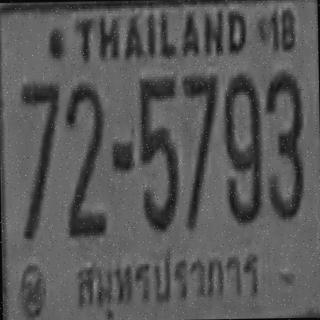N02: (63, 81, 105, 234)
N03: (264, 69, 303, 217)
N05: (136, 74, 177, 229)
N07: (19, 79, 61, 237), (181, 72, 218, 227), (19, 78, 60, 204)
N09: (222, 71, 261, 222)
P57: (74, 245, 264, 314)
